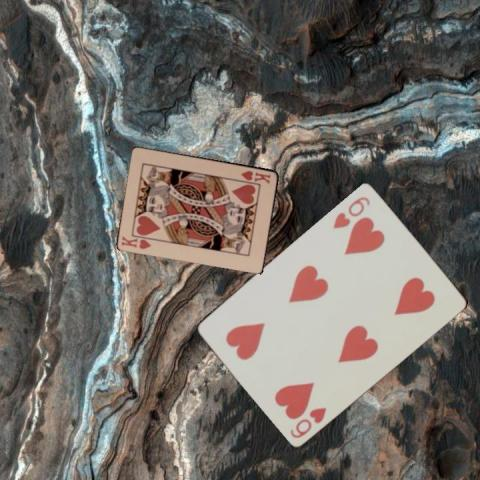6h: (330, 193, 372, 230), (287, 404, 328, 440)
Kh: (238, 167, 272, 185), (118, 233, 152, 250)
